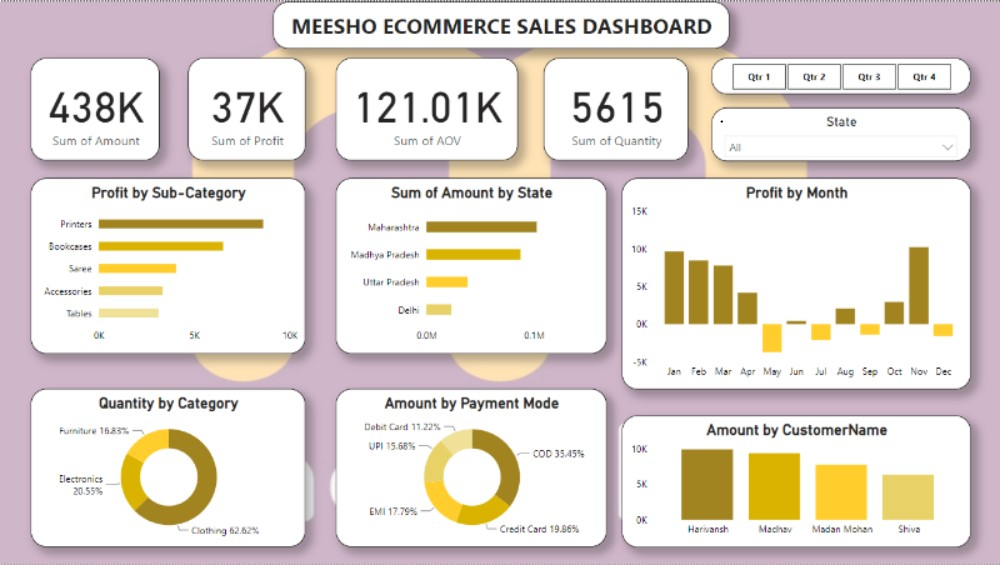

Layout of this report page (visuals, bound fields, positions):
{"tool":"powerbi","page":{"name":"Page 1","canvas":[1280,720],"ordinal":0},"visuals":[{"type":"textbox","box":[348.8,0,583.8,60],"z":0},{"type":"columnChart","title":"Profit by Month","fields":{"Category":["Table.Monthshort"],"Y":["Details.Profit"]},"box":[795,225,446.2,270],"z":1},{"type":"barChart","title":"Profit by Sub-Category","fields":{"Category":["Details.Sub-Category"],"Y":["Details.Profit"]},"box":[38.8,225,351.2,225],"z":2},{"type":"donutChart","title":"Quantity by Category","fields":{"Category":["Details.Category"],"Y":["Details.Quantity"]},"box":[38.8,495,351.2,202.5],"z":3},{"type":"donutChart","title":"Amount by Payment Mode","fields":{"Category":["Details.PaymentMode"],"Y":["Details.Amount"]},"box":[428.8,495,346.2,202.5],"z":4},{"type":"card","fields":{"Values":["Details.Amount"]},"box":[38.8,72.5,165,131.2],"z":5},{"type":"card","fields":{"Values":["Details.Quantity"]},"box":[695,72.5,185,131.2],"z":6},{"type":"card","fields":{"Values":["Details.Profit"]},"box":[240,72.5,150,131.2],"z":7},{"type":"card","fields":{"Values":["Details.AOV"]},"box":[428.8,72.5,232.5,131.2],"z":8},{"type":"barChart","fields":{"Category":["Orders.State"],"Y":["Details.Amount"]},"box":[428.8,225,346.2,225],"z":9},{"type":"columnChart","title":"Amount by CustomerName","fields":{"Category":["Orders.CustomerName"],"Y":["Details.Amount"]},"box":[795,528.8,446.2,168.8],"z":10},{"type":"slicer","fields":{"Values":["Orders.Order Date.Variation.Date Hierarchy.Quarter"]},"box":[910,72.5,331.2,46.2],"z":11},{"type":"slicer","title":"State","fields":{"Values":["Orders.State"]},"box":[910,135,331.2,68.8],"z":12}]}

Visuals, with their boxes in screenshot pixels (x1, y1, x2, y2), scaled from the page's 1280x720 canvas onto the 1000x565 screenshot:
textbox: bbox=[272, 0, 729, 47]
"Profit by Month" columnChart: bbox=[621, 177, 970, 388]
"Profit by Sub-Category" barChart: bbox=[30, 177, 305, 353]
"Quantity by Category" donutChart: bbox=[30, 388, 305, 547]
"Amount by Payment Mode" donutChart: bbox=[335, 388, 605, 547]
card - Details.Amount: bbox=[30, 57, 159, 160]
card - Details.Quantity: bbox=[543, 57, 688, 160]
card - Details.Profit: bbox=[188, 57, 305, 160]
card - Details.AOV: bbox=[335, 57, 517, 160]
barChart - Orders.State x Details.Amount: bbox=[335, 177, 605, 353]
"Amount by CustomerName" columnChart: bbox=[621, 415, 970, 547]
slicer - Orders.Order Date.Variation.Date Hierarchy.Quarter: bbox=[711, 57, 970, 93]
"State" slicer: bbox=[711, 106, 970, 160]
